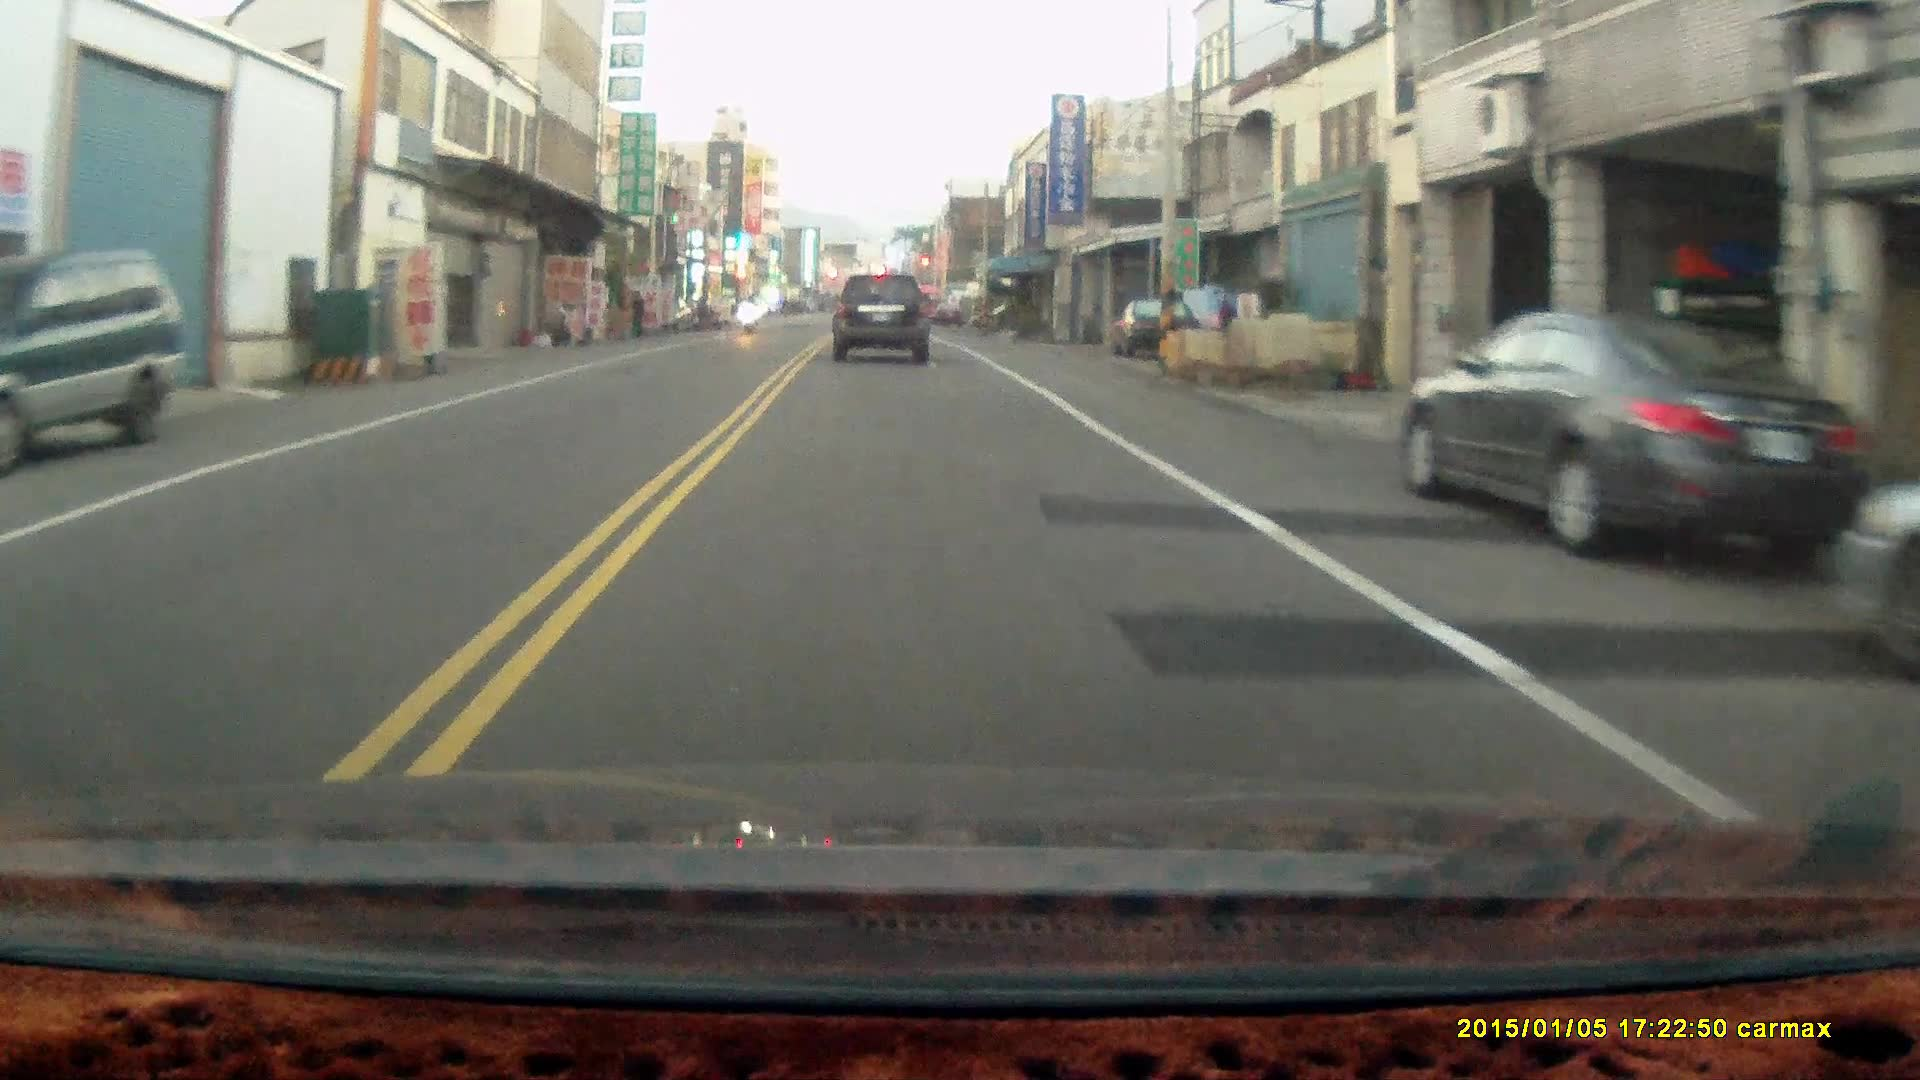pedestrian: (625, 286, 645, 336)
rider: (734, 285, 761, 332)
vehicle: (1398, 311, 1871, 574), (1, 250, 189, 466), (831, 275, 932, 369), (1112, 295, 1203, 356)
